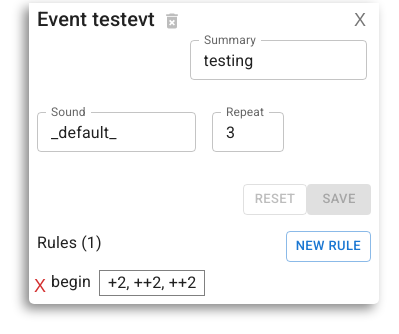
Scenario: eventsutil - modify › handles reset after fld modification
Type "new descr" into the field with test id "descrInput" at [278, 60], box 190,40 -> 367,80
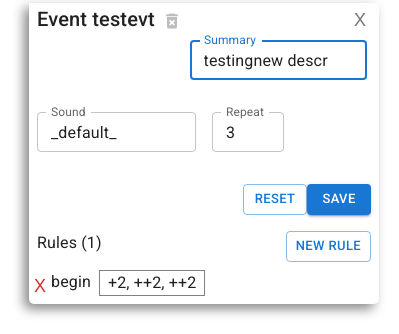
Expected: the button "Reset" is enabled
Click the button "Reset" at [275, 199], box 243,184 -> 307,215
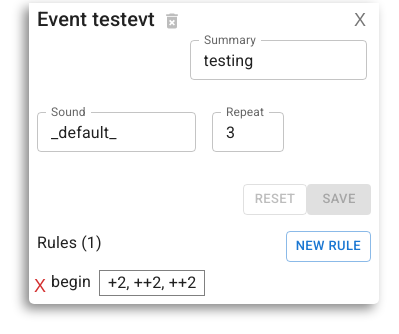
Expected: the button "Reset" is disabled, 243,184 -> 307,215
